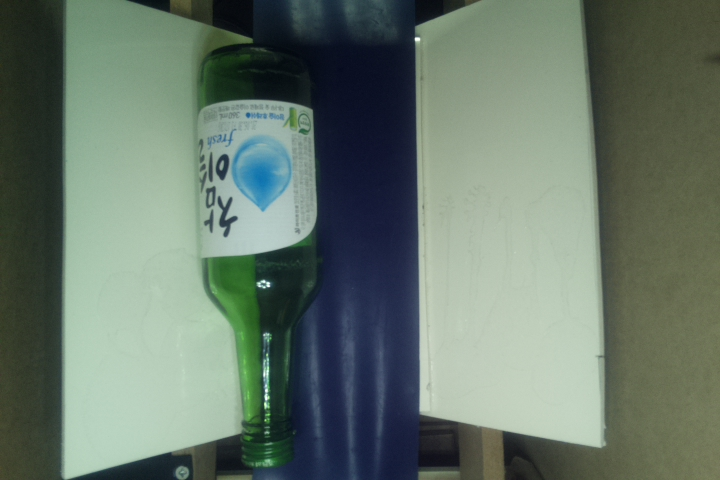soju: (195, 42, 318, 470)
